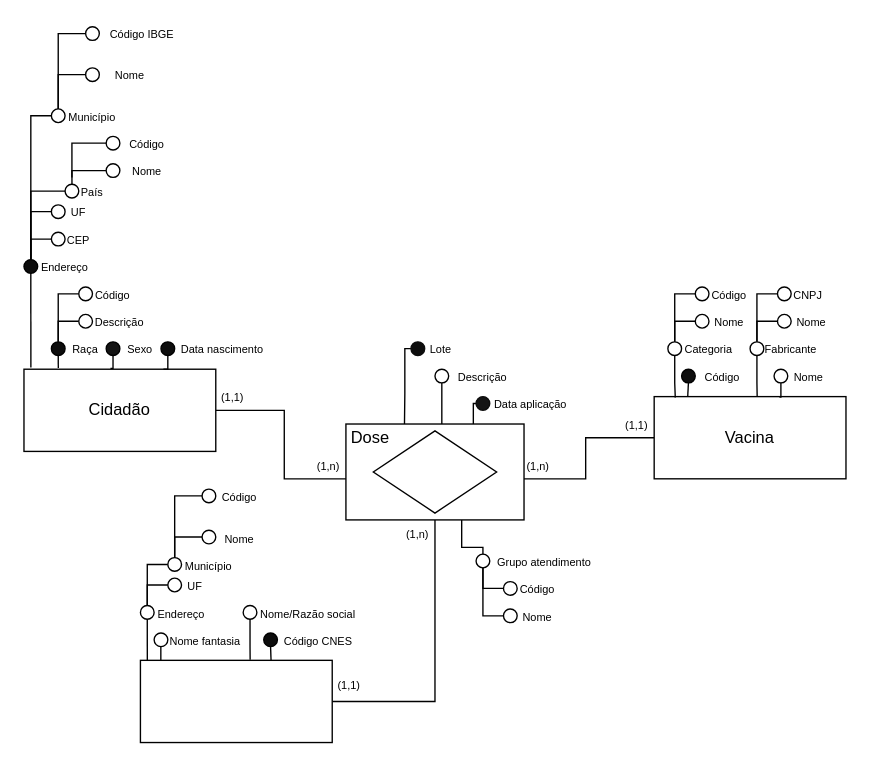
Some shapes in this 870 by 766 pixel diagram are drawn without their labels. The shapes that lost their labels are listed below. From the top down, each one's box as (x1, y1, x2, y2) in pixels, then its label:
(372, 429, 497, 513): Recebe
(139, 659, 332, 743): Estabelecimento
